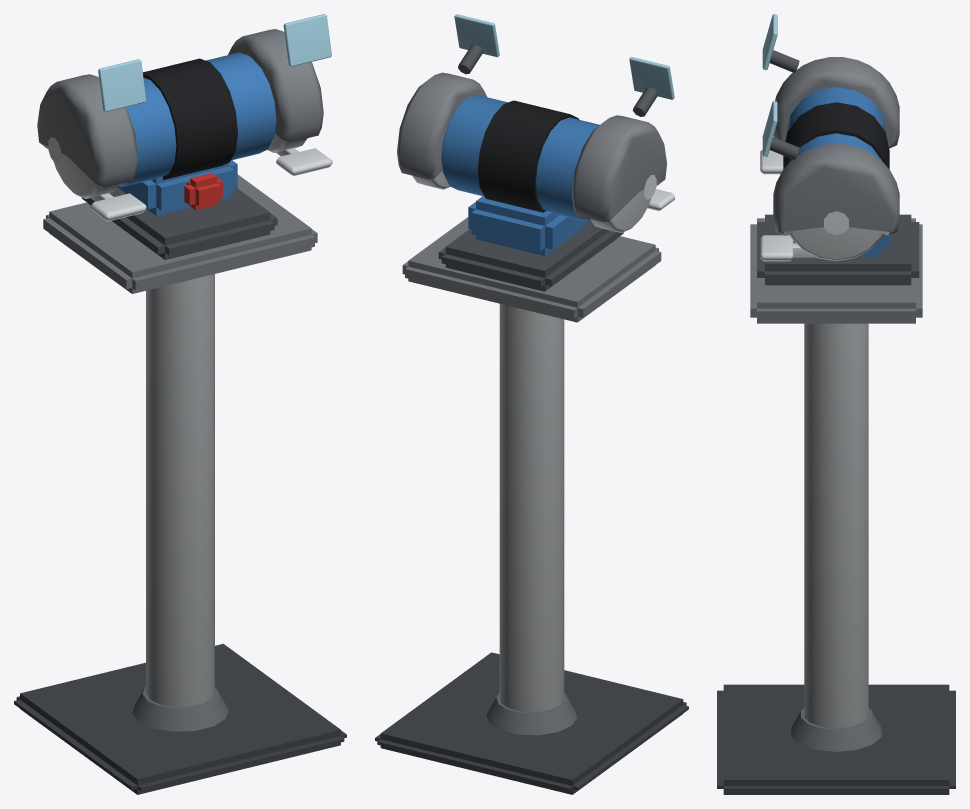
File: SM_BenchGrinder_Stand_01.glb
3 renders of one model, left to right at view 1: azimuth 30°, elevation 25°; view 2: azimuth 150°, elevation 25°; view 3: azimuth 270°, elevation 25°, orthographic. The views are drawn at different scales.
Visible parts, largest first — view 1: SM_BenchGrinder_Stand_01; view 2: SM_BenchGrinder_Stand_01; view 3: SM_BenchGrinder_Stand_01.
Boxes of the visible parts, x1=… form: SM_BenchGrinder_Stand_01: x1=14, y1=14, x2=346, y2=794; SM_BenchGrinder_Stand_01: x1=375, y1=14, x2=688, y2=794; SM_BenchGrinder_Stand_01: x1=717, y1=14, x2=955, y2=794.
Size of the model in its own units: 0.42 by 1.13 by 0.36.
1 material, 1 textured.
